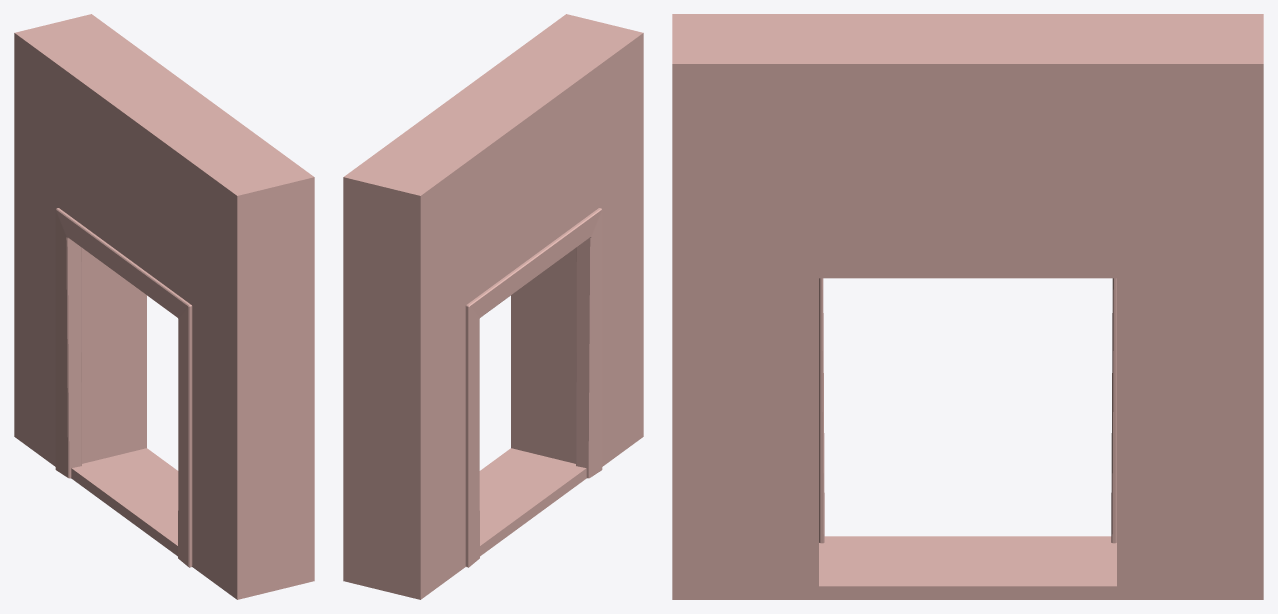
File: SM_4x4-doorFrame01.fbx
3 views of the same model, side by side, from view 1: azimuth 30°, elevation 25°; view 2: azimuth 150°, elevation 25°; view 3: azimuth 270°, elevation 25° (orthographic). The views are drawn at different scales.
Visible parts, largest first — view 1: SM_4x4-doorFrame01; view 2: SM_4x4-doorFrame01; view 3: SM_4x4-doorFrame01.
Boxes of the visible parts, left/top/right/bottom form: SM_4x4-doorFrame01: left=14, top=14, right=314, bottom=599; SM_4x4-doorFrame01: left=343, top=14, right=643, bottom=599; SM_4x4-doorFrame01: left=672, top=14, right=1263, bottom=599.
Bounding box in the file's own units: 83.98 × 400 × 400.
